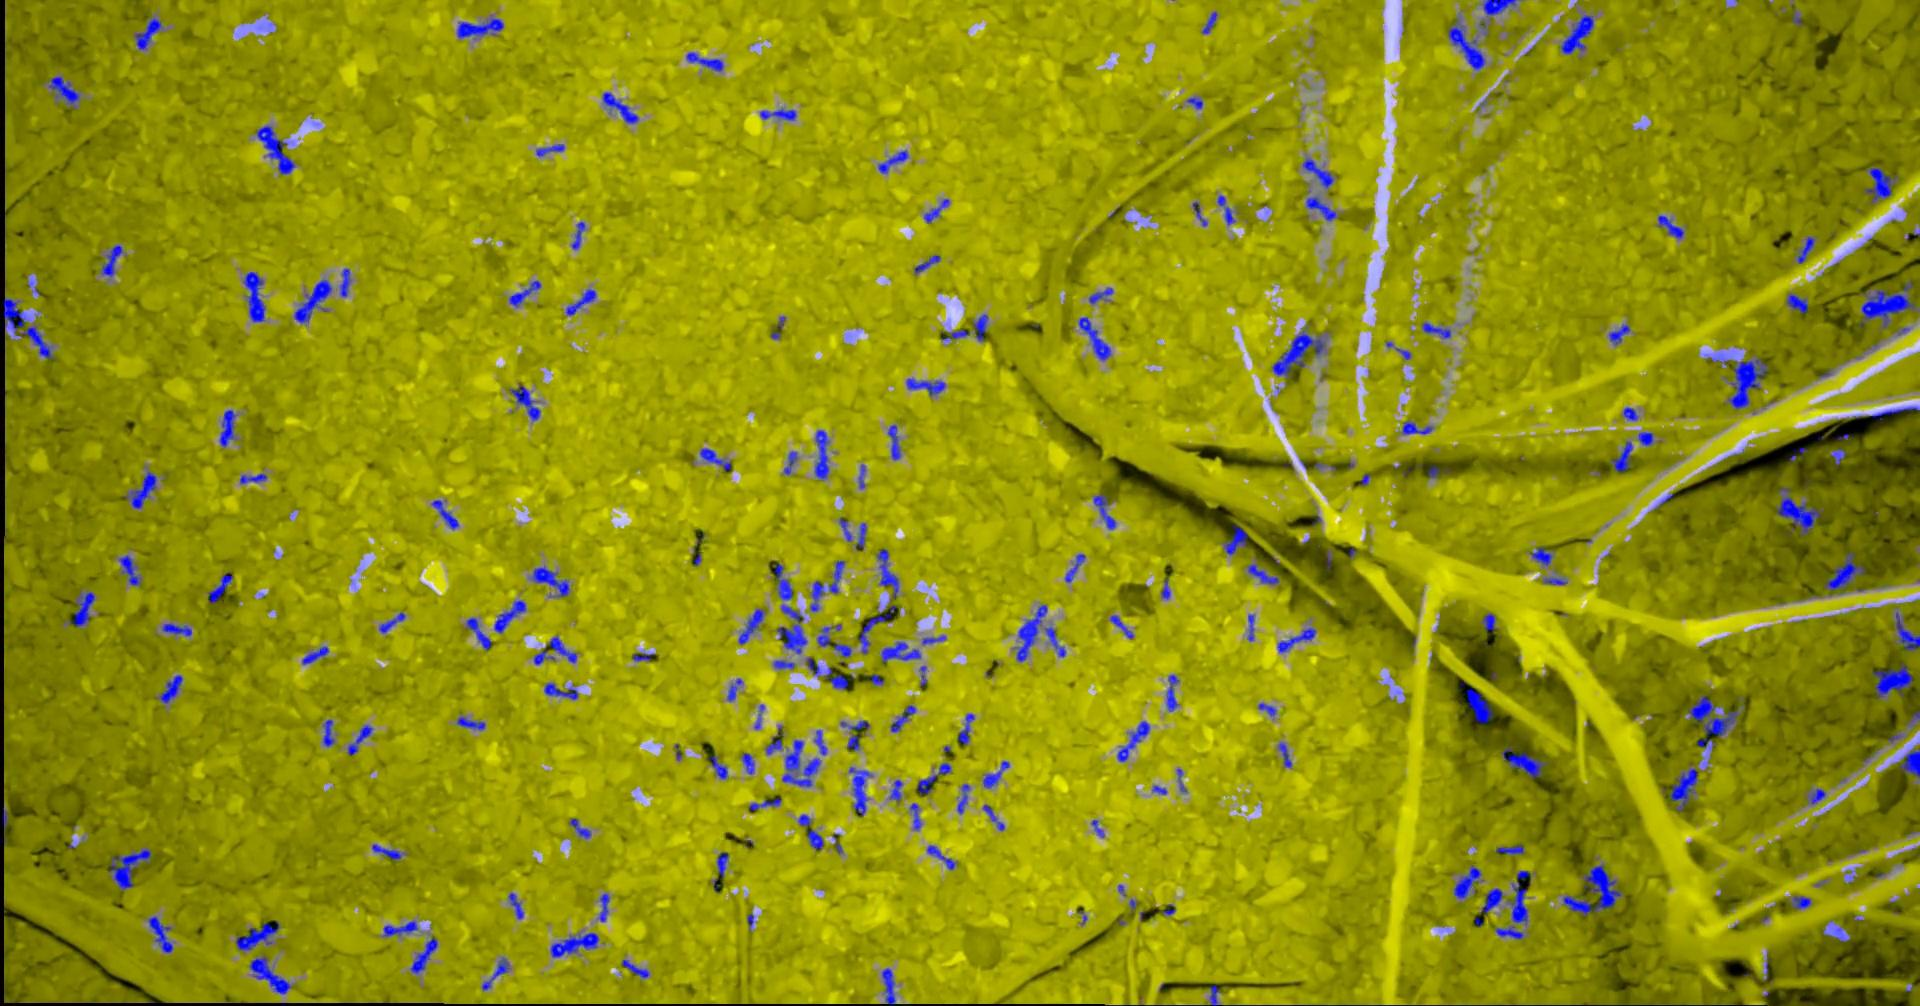ant: (3, 298, 55, 359), (1858, 279, 1915, 328), (1688, 695, 1736, 749), (1272, 330, 1324, 375), (1777, 486, 1823, 535), (1727, 357, 1768, 408), (255, 124, 295, 174), (1448, 17, 1484, 69), (781, 739, 820, 786), (858, 605, 895, 653), (1016, 605, 1048, 661), (1823, 553, 1865, 594), (109, 848, 151, 889), (249, 955, 291, 995), (293, 279, 331, 323), (776, 605, 806, 654), (1501, 744, 1545, 777), (1870, 663, 1912, 697), (1078, 316, 1110, 359), (1559, 14, 1592, 53), (1116, 721, 1149, 761), (235, 921, 279, 950), (123, 471, 156, 508), (533, 636, 577, 664), (1863, 166, 1896, 202), (1669, 768, 1697, 810), (848, 767, 872, 815), (550, 932, 598, 956), (243, 271, 265, 321), (875, 547, 898, 598), (1506, 870, 1528, 923), (602, 91, 637, 123), (531, 567, 569, 596), (509, 385, 538, 420), (1465, 687, 1495, 723), (494, 600, 524, 633), (1895, 611, 1919, 652), (1453, 865, 1482, 898), (456, 18, 503, 38), (410, 937, 437, 973), (69, 591, 94, 627), (48, 76, 79, 107), (1302, 158, 1333, 187), (135, 17, 163, 50), (481, 956, 509, 989), (1277, 627, 1316, 652), (1854, 406, 1919, 420), (738, 608, 763, 644), (797, 814, 823, 850), (147, 915, 171, 951), (508, 279, 540, 307), (770, 561, 792, 600), (430, 499, 458, 528), (565, 288, 596, 315), (466, 617, 490, 650), (982, 760, 1010, 788), (881, 641, 919, 662), (347, 724, 372, 754), (926, 843, 956, 869), (1093, 493, 1115, 528), (877, 149, 908, 173), (698, 448, 731, 470), (207, 574, 232, 602), (1305, 196, 1335, 220), (686, 52, 723, 71), (100, 244, 122, 276), (118, 554, 140, 586), (890, 704, 916, 730), (814, 429, 828, 478), (1224, 525, 1247, 554), (1610, 441, 1632, 471), (905, 379, 945, 395), (923, 198, 949, 224), (1247, 563, 1279, 583), (159, 674, 182, 702), (1044, 626, 1065, 655), (1898, 748, 1919, 779), (218, 409, 235, 446), (1064, 553, 1084, 582), (1482, 0, 1517, 17), (1657, 215, 1683, 238), (982, 804, 1004, 829), (378, 611, 405, 633), (764, 725, 783, 754), (1109, 615, 1133, 638), (817, 624, 841, 647), (1481, 888, 1502, 913), (828, 560, 844, 593), (543, 682, 577, 699), (383, 920, 417, 936), (957, 713, 974, 744), (371, 843, 403, 860), (1217, 194, 1234, 224), (881, 968, 895, 1005), (1796, 236, 1815, 263), (621, 959, 648, 978), (825, 667, 848, 688), (707, 754, 728, 779), (301, 647, 328, 664), (1166, 674, 1178, 711), (569, 817, 590, 838), (914, 255, 940, 273), (1421, 323, 1450, 338), (1401, 420, 1432, 434), (748, 796, 780, 810), (1608, 324, 1629, 344), (1785, 293, 1808, 312), (888, 424, 900, 459), (809, 580, 823, 611), (759, 108, 796, 119), (1530, 546, 1552, 565), (916, 774, 937, 793), (161, 622, 190, 636), (971, 314, 987, 340), (508, 892, 523, 918), (1088, 287, 1112, 304), (1192, 201, 1208, 226), (535, 144, 564, 156), (571, 221, 584, 249), (1277, 742, 1291, 767), (957, 782, 969, 813), (457, 716, 484, 729), (1201, 11, 1217, 33), (770, 316, 785, 338), (339, 268, 350, 296), (855, 522, 866, 550), (728, 678, 742, 701), (888, 779, 902, 801), (1495, 926, 1523, 937), (323, 719, 334, 746), (783, 451, 796, 474), (814, 729, 825, 754), (716, 851, 728, 876), (941, 329, 969, 339), (1495, 843, 1523, 854), (599, 893, 610, 921), (839, 517, 851, 541), (239, 473, 265, 483), (833, 641, 851, 657), (1807, 788, 1825, 803), (909, 803, 919, 829), (1427, 465, 1448, 478), (1789, 446, 1806, 461), (1830, 448, 1845, 465), (1482, 614, 1497, 630), (841, 720, 869, 729), (742, 752, 753, 774), (1790, 895, 1810, 908), (1208, 984, 1219, 1005), (1258, 702, 1275, 716), (806, 657, 819, 674), (1247, 614, 1255, 640), (922, 635, 945, 644), (1623, 406, 1637, 420), (1638, 431, 1652, 445), (846, 734, 858, 749), (0, 804, 8, 829), (632, 652, 654, 661), (1186, 97, 1203, 108), (1543, 577, 1567, 584), (1161, 579, 1170, 600), (773, 661, 794, 668), (858, 464, 865, 488), (938, 762, 950, 774)
